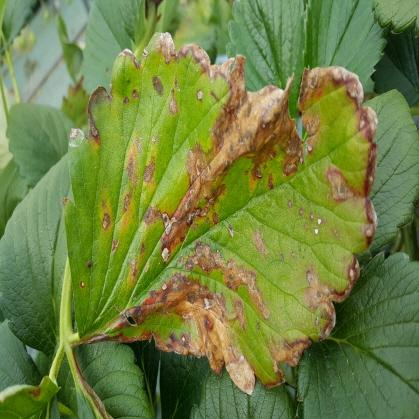Angular Leafspot: (60, 28, 381, 399)
